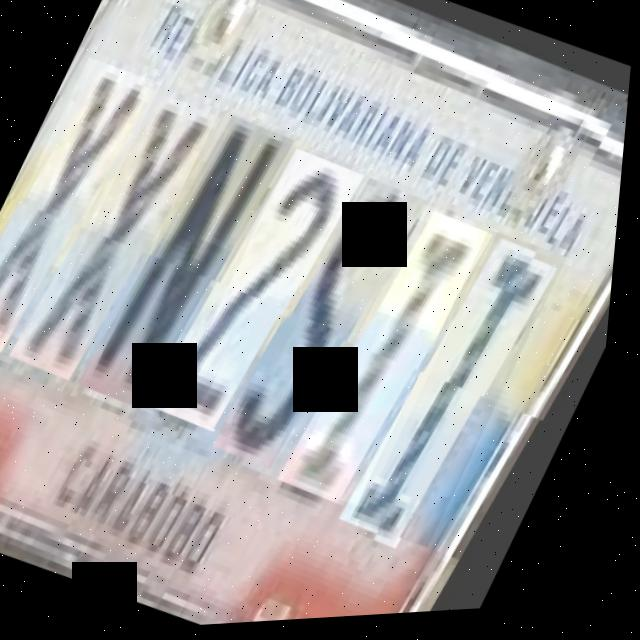2: (163, 142, 374, 446)
I: (357, 232, 575, 558), (295, 205, 506, 518)
N: (91, 108, 306, 423)
S: (229, 172, 437, 482)
X: (22, 80, 234, 394), (0, 54, 165, 364)
